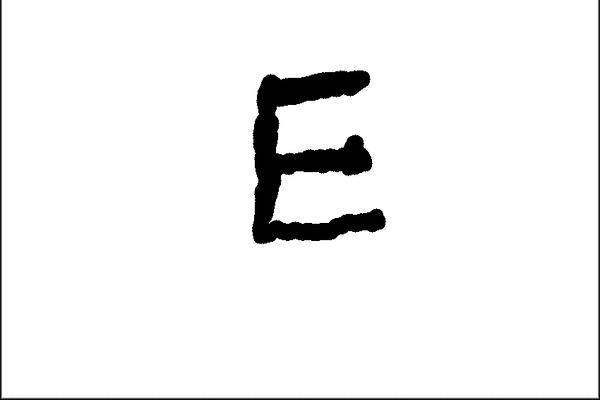E: (245, 61, 390, 248)
